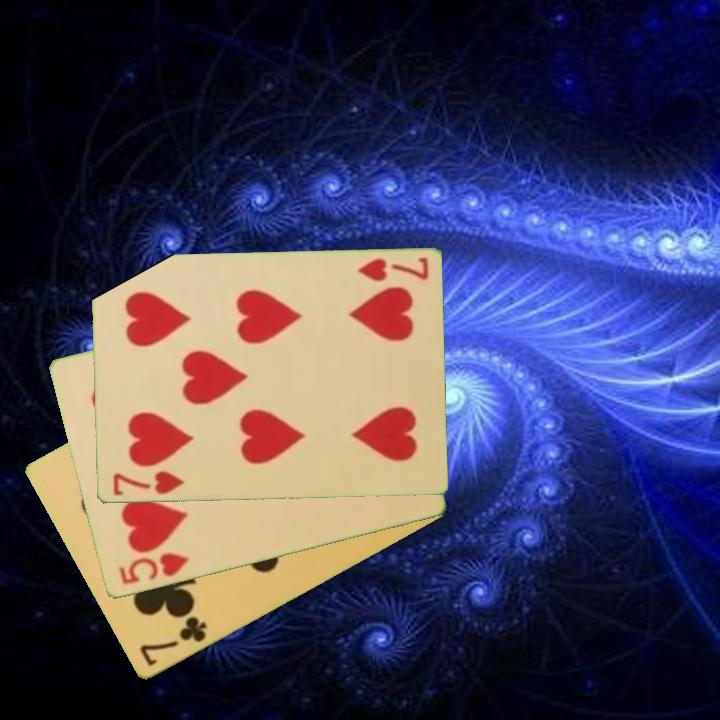5h: (115, 549, 192, 588)
7c: (135, 613, 210, 670)
7h: (109, 468, 187, 499), (354, 254, 431, 284)
